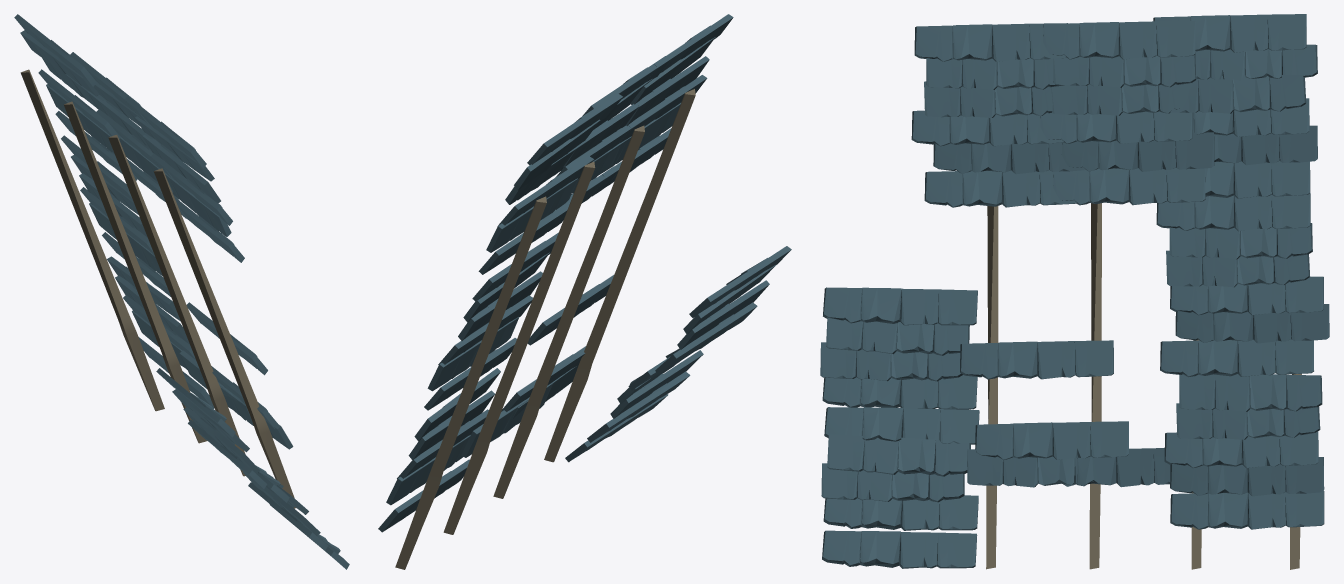
Rendered from TallBackRoof.fbx.
The picture shows the model from 3 angles, left to right: view 1: azimuth 30°, elevation 25°; view 2: azimuth 150°, elevation 25°; view 3: azimuth 270°, elevation 25°; orthographic projection. The views are drawn at different scales.
Parts seen in each view (by area): view 1: TallBackRoof_Merged; view 2: TallBackRoof_Merged; view 3: TallBackRoof_Merged.
Boxes of the visible parts, left/top/right/bottom form: TallBackRoof_Merged: left=14, top=14, right=349, bottom=569; TallBackRoof_Merged: left=378, top=14, right=791, bottom=569; TallBackRoof_Merged: left=820, top=14, right=1329, bottom=569.
Size of the model in its own units: 376 by 965 by 915.
